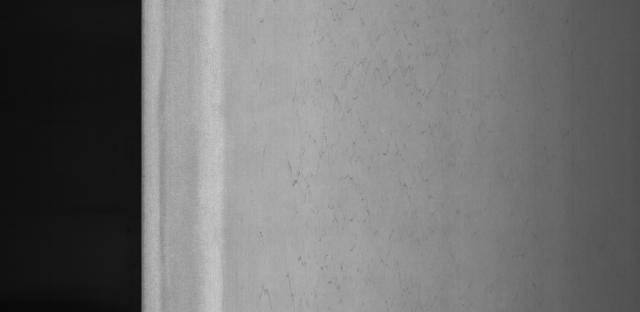silk_spot: (262, 46, 446, 312)
